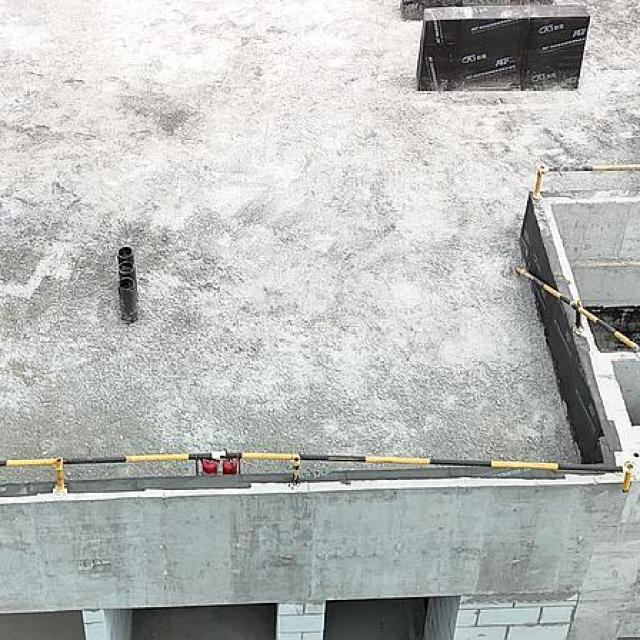edge_guardrail: (0, 450, 634, 495), (514, 264, 640, 354), (533, 164, 640, 205)
